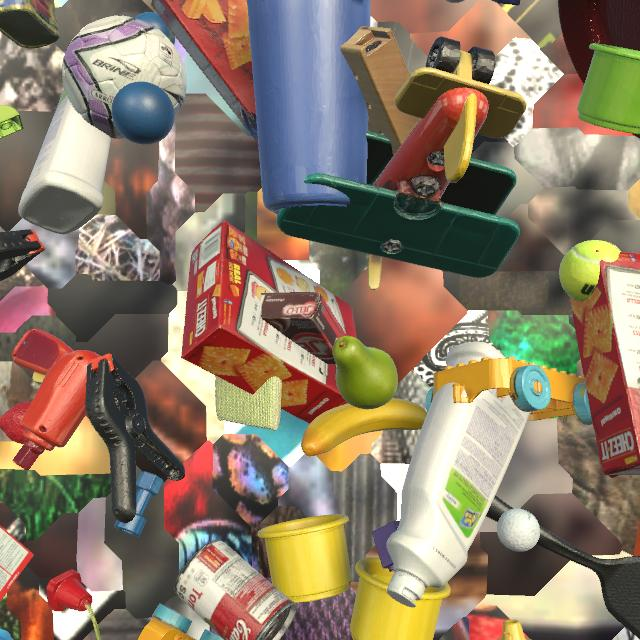ycb_003_cracker_box: (181, 220, 357, 424), (570, 250, 640, 475), (151, 0, 258, 143)
ycb_005_tomato_soup_can: (175, 539, 297, 640)
ycb_006_mustard_bottle: (497, 619, 531, 640)
ycb_008_pudding_box: (261, 292, 347, 364)
ycb_009_gelatin_box: (0, 526, 34, 601)
ycb_010_potted_meat_can: (0, 0, 60, 48)
ycb_011_banana: (301, 398, 427, 456)
ycb_012_strawberry: (0, 401, 32, 444)
ycb_016_pear: (332, 336, 398, 409)
